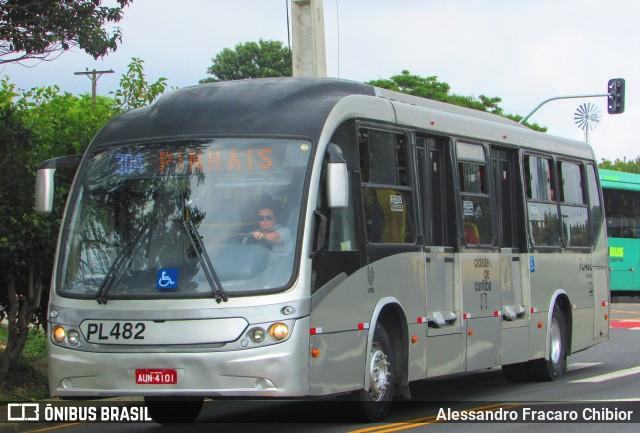PINHAIS: (152, 144, 278, 176)
